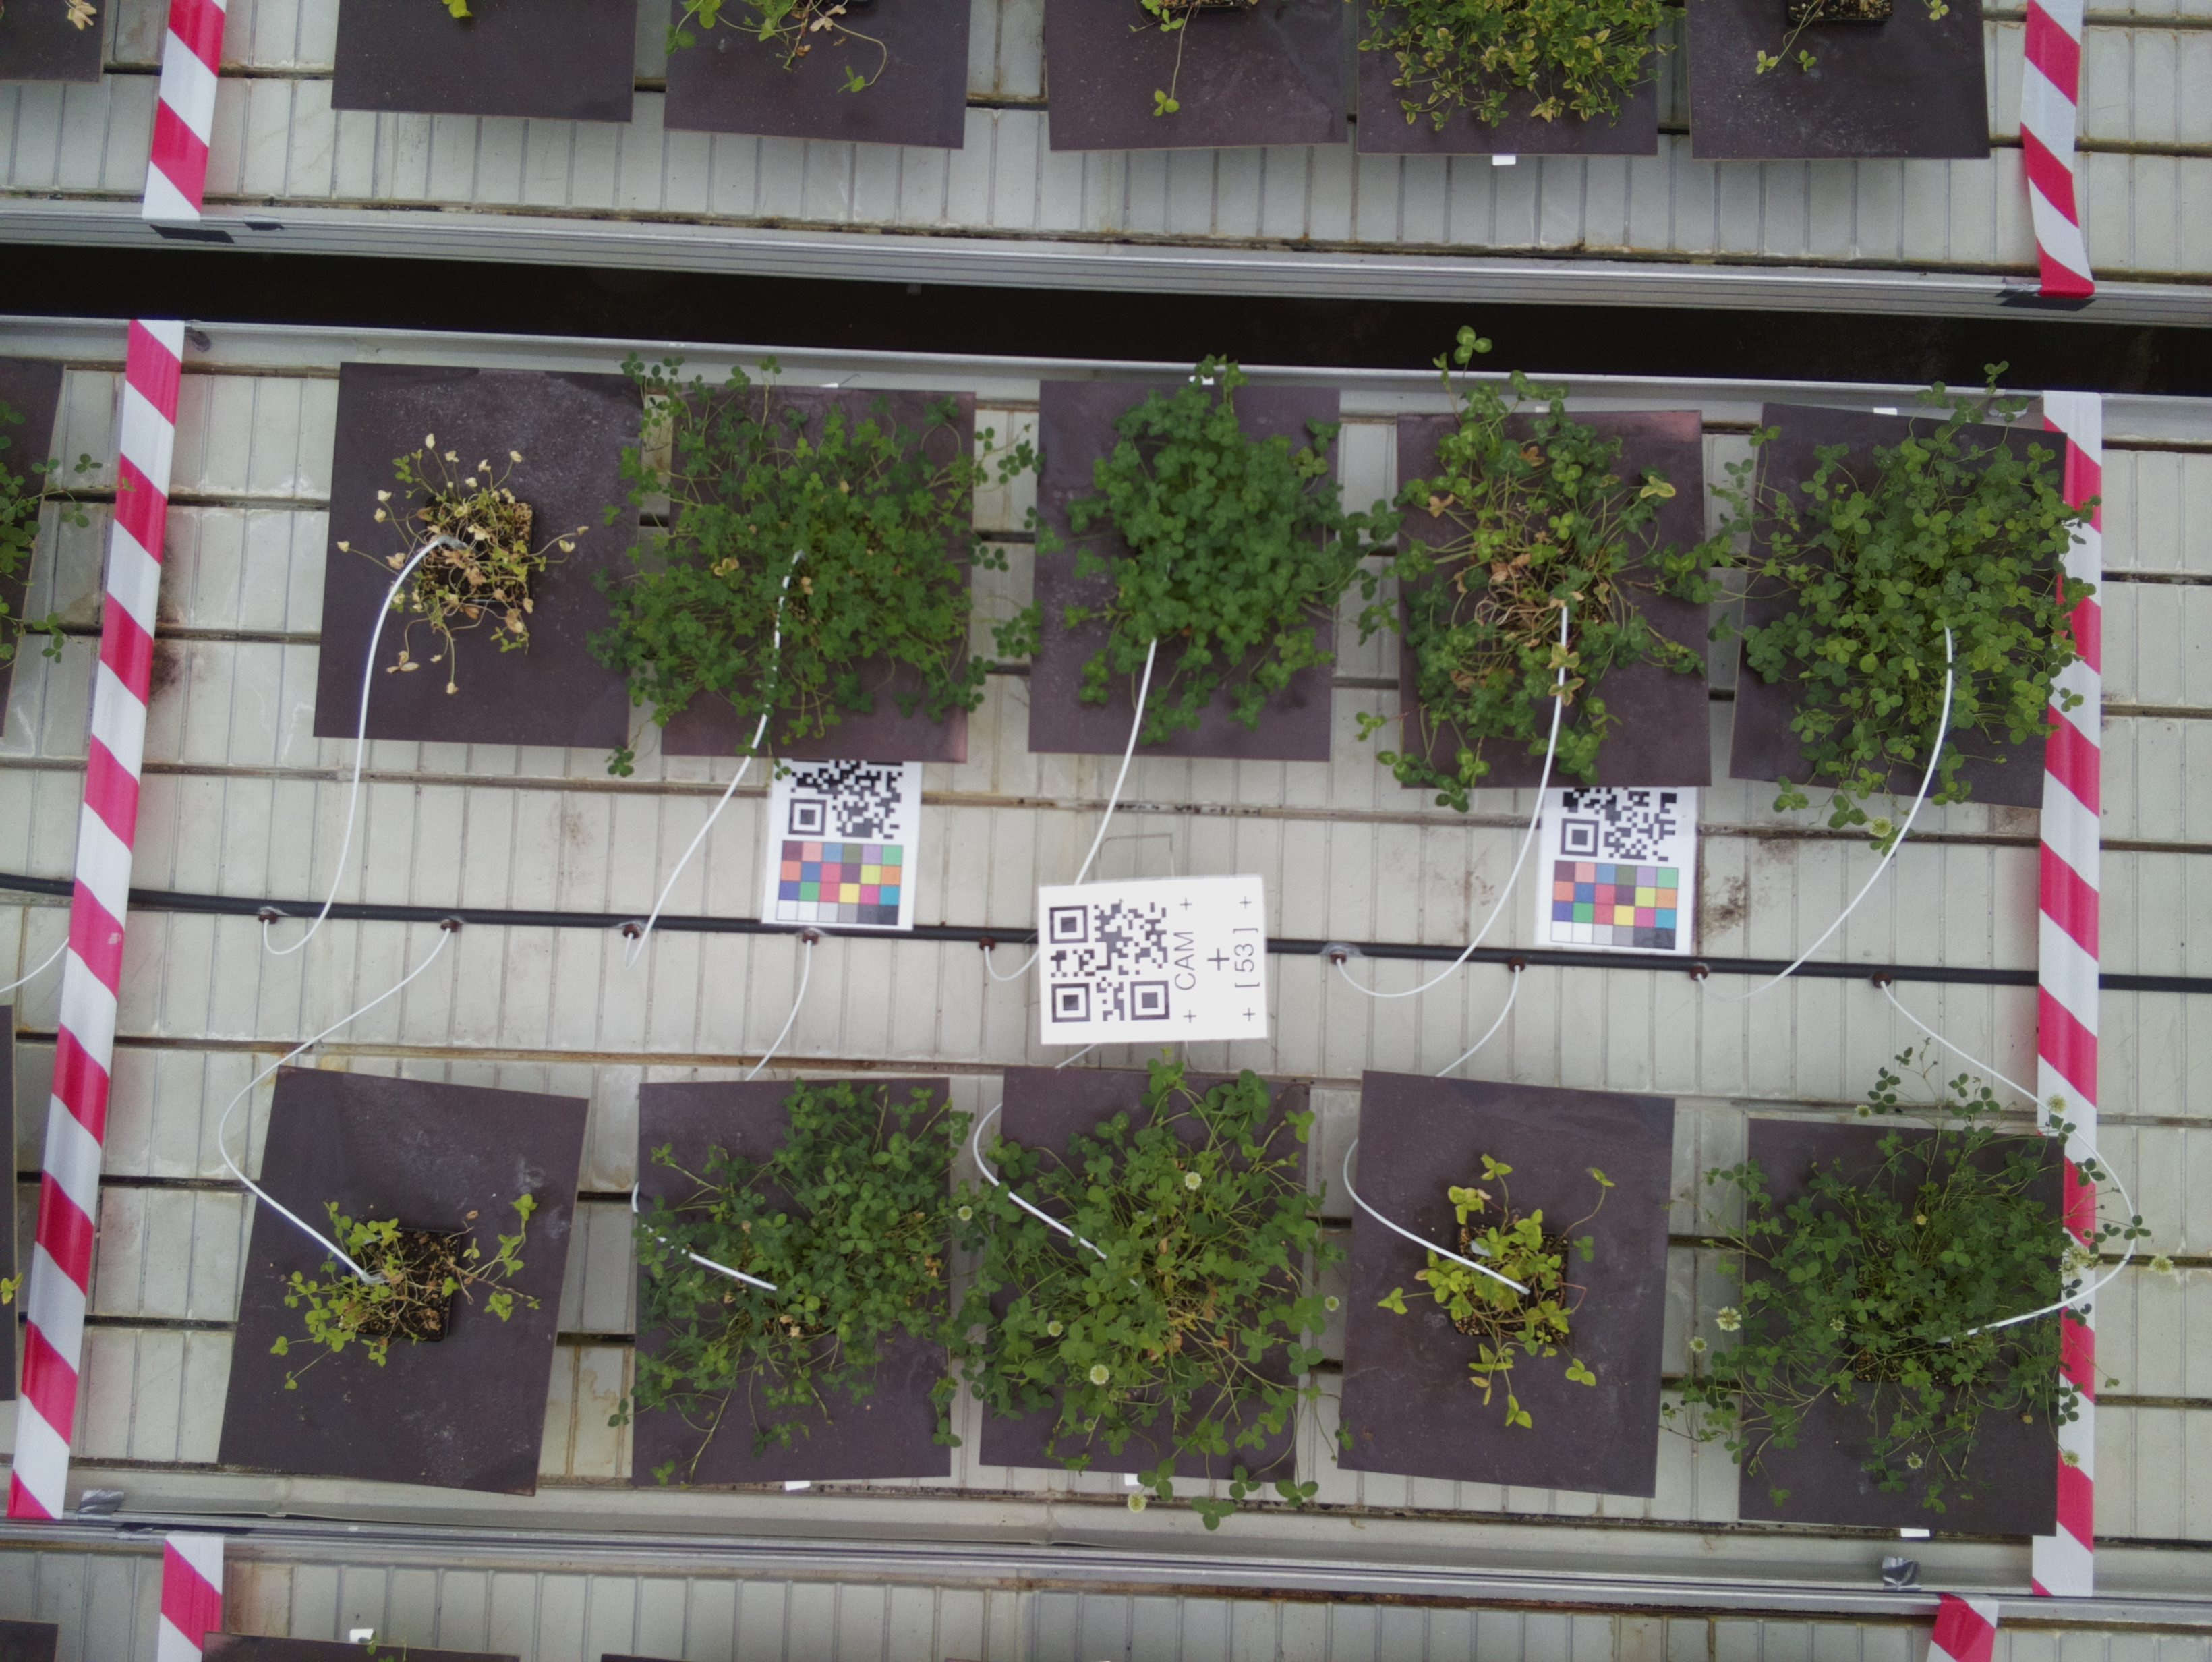POT: (1351, 1068, 1667, 1500), (993, 1063, 1311, 1489), (629, 1077, 958, 1480), (1748, 1121, 2065, 1538), (258, 1068, 559, 1498), (1735, 414, 2072, 775), (337, 361, 637, 761), (1398, 410, 1713, 786), (670, 381, 971, 761), (1035, 377, 1330, 763)
QRCODE: (1035, 876, 1269, 1039)
QRCOLOR: (766, 761, 922, 937), (1538, 786, 1695, 958)
